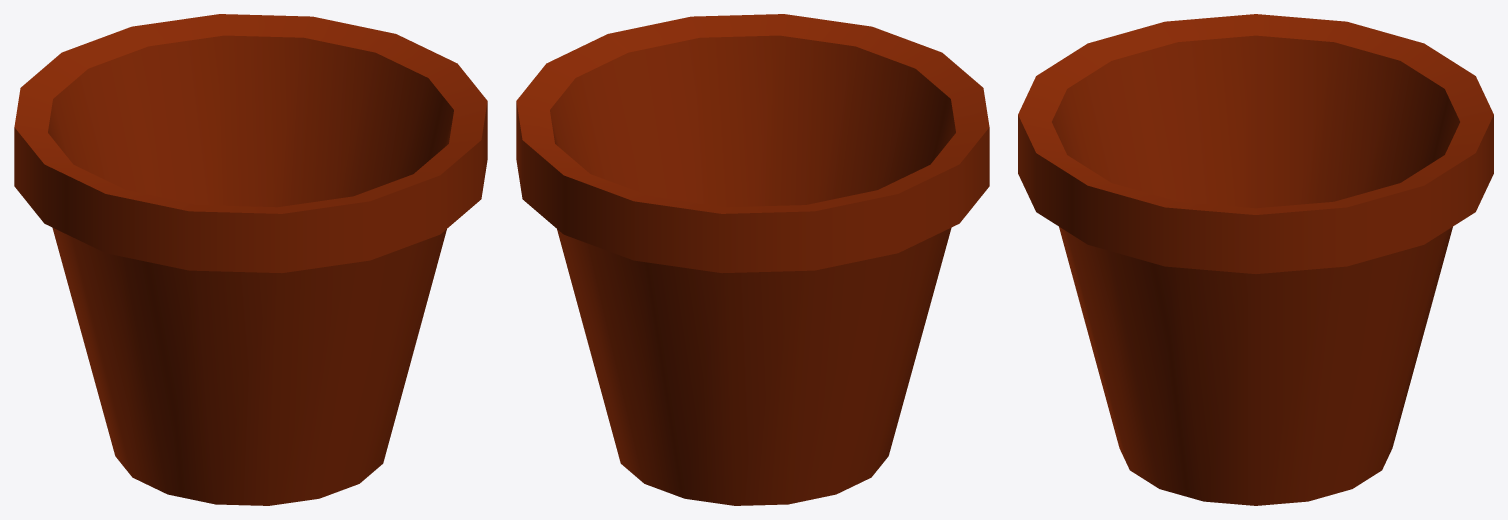
Rendered from Prop_PlantenPot.FBX.
3 renders of one model, left to right at view 1: azimuth 30°, elevation 25°; view 2: azimuth 150°, elevation 25°; view 3: azimuth 270°, elevation 25°, orthographic.
Parts seen in each view (by area): view 1: PlantenPot; view 2: PlantenPot; view 3: PlantenPot.
Part boxes in pixels (x1,y1,x2,y2): PlantenPot: [14, 14, 487, 505]; PlantenPot: [516, 14, 989, 505]; PlantenPot: [1018, 14, 1493, 505].
Size of the model in its own units: 20.9 by 16.18 by 20.9.
